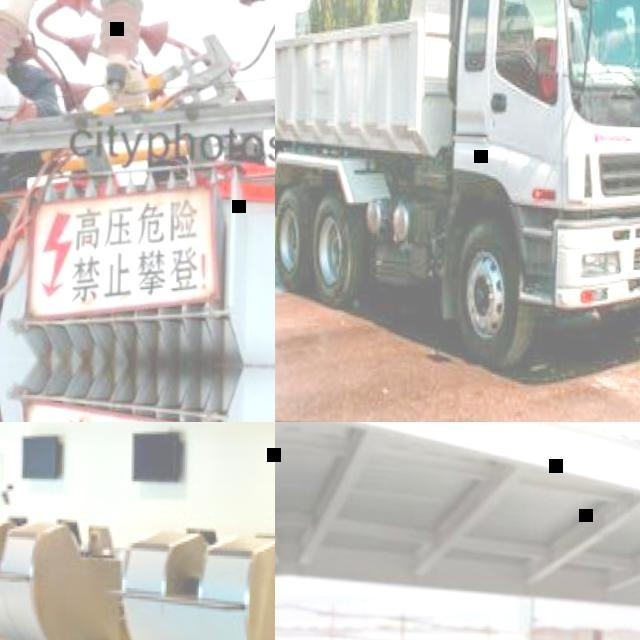NO-Safety Vest: (0, 63, 42, 223)
Person: (0, 0, 68, 381)
machinery: (275, 0, 640, 383)
